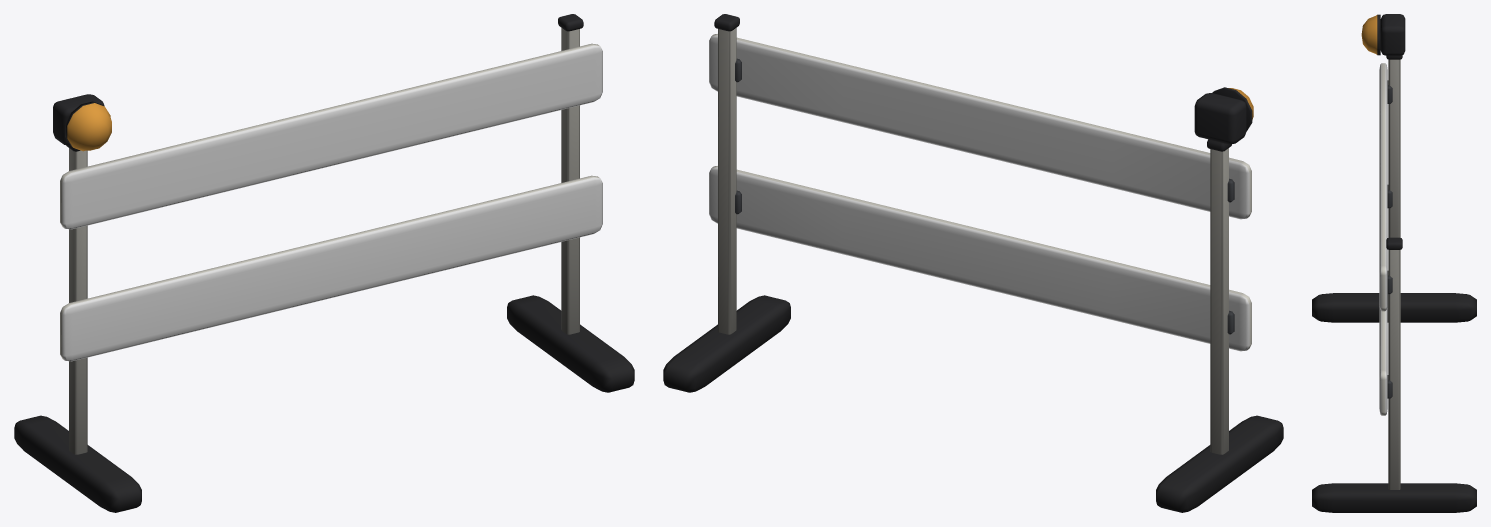
The model's file is RoadBarrier.fbx.
The picture shows the model from 3 angles, left to right: view 1: azimuth 30°, elevation 25°; view 2: azimuth 150°, elevation 25°; view 3: azimuth 270°, elevation 25°; orthographic projection. The views are drawn at different scales.
Parts seen in each view (by area): view 1: RoadBarrier; view 2: RoadBarrier; view 3: RoadBarrier.
Boxes of the visible parts, left/top/right/bottom form: RoadBarrier: left=14, top=14, right=634, bottom=512; RoadBarrier: left=663, top=14, right=1283, bottom=512; RoadBarrier: left=1312, top=14, right=1476, bottom=512.
Bounding box in the file's own units: 1.8 × 1.21 × 0.6.
